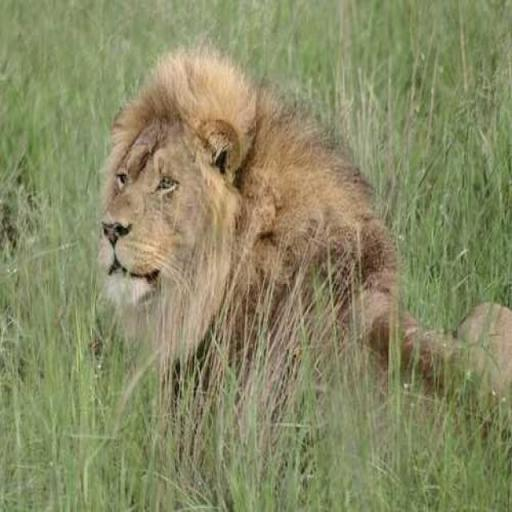Lion: (95, 40, 511, 436)
